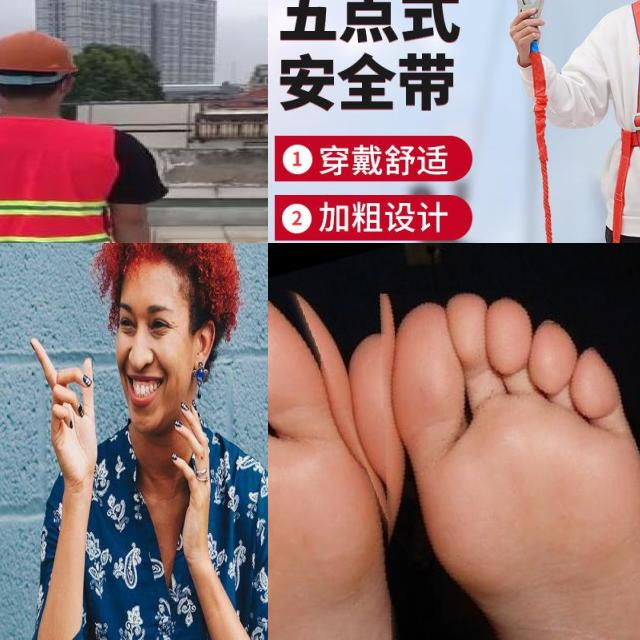Barefoots: (399, 269, 640, 640), (268, 324, 430, 640)
Harness: (607, 0, 640, 243)
No_Ear-Protection: (184, 306, 228, 388)
No_Glasses: (106, 288, 185, 352)
head_helmet: (0, 27, 80, 76)
person: (0, 31, 167, 243)
vest: (0, 117, 120, 243)
